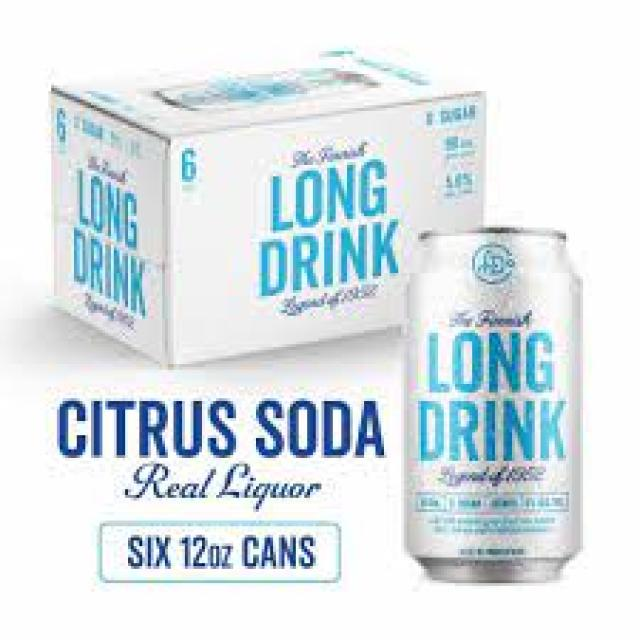Cans: (398, 219, 595, 592)
